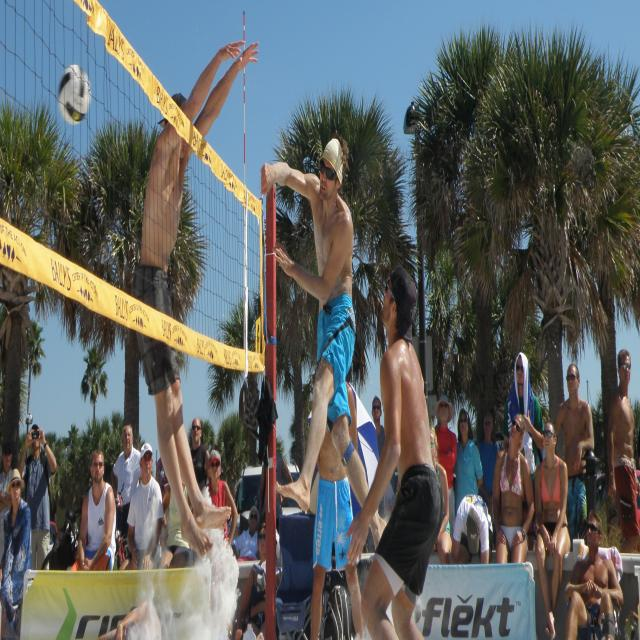body: (127, 37, 261, 556), (260, 134, 390, 557), (346, 262, 445, 640), (309, 379, 365, 640), (552, 362, 596, 553), (504, 352, 545, 552), (534, 420, 571, 640), (563, 508, 624, 640), (608, 347, 640, 556), (491, 412, 535, 564), (68, 448, 116, 572), (17, 422, 57, 570), (0, 466, 32, 639), (126, 442, 164, 573), (258, 432, 294, 561), (111, 424, 142, 570), (234, 520, 266, 640), (433, 393, 458, 543), (452, 407, 484, 521), (158, 474, 196, 568), (204, 449, 239, 551), (95, 589, 165, 640), (428, 422, 452, 566), (451, 493, 493, 565), (477, 408, 499, 532), (0, 438, 14, 566), (230, 504, 260, 562), (189, 416, 211, 493), (371, 395, 385, 457), (226, 626, 243, 640)
